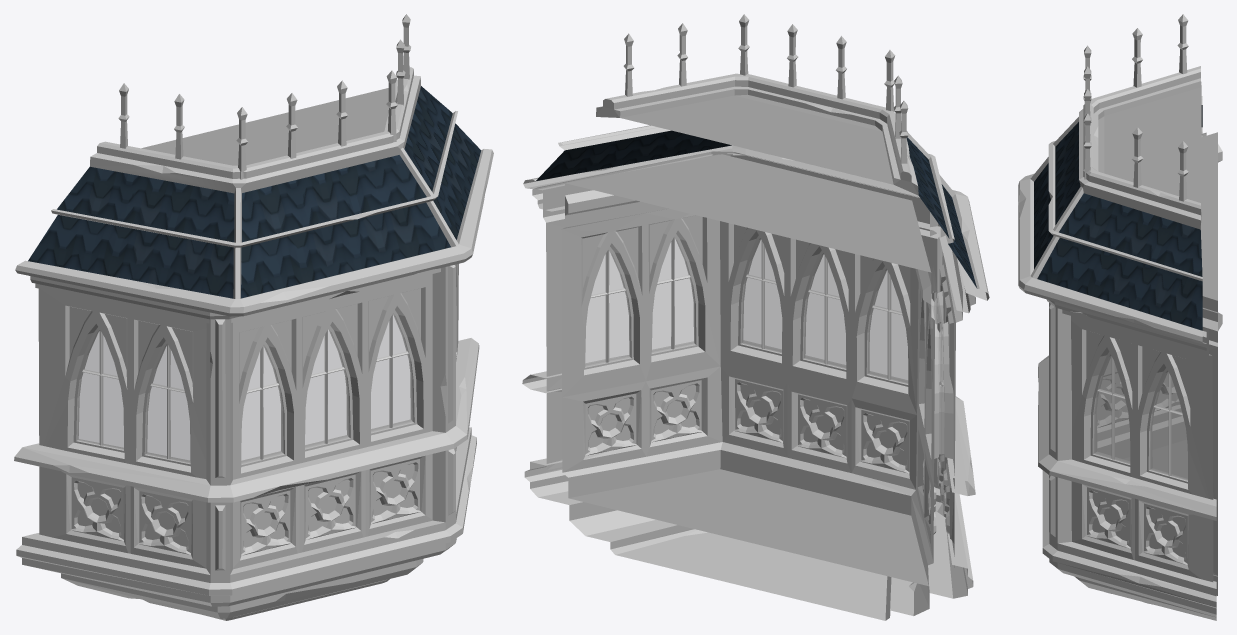
File: SM_Bld_Alcove_01.fbx
The picture shows the model from 3 angles, left to right: view 1: azimuth 30°, elevation 25°; view 2: azimuth 150°, elevation 25°; view 3: azimuth 270°, elevation 25°; orthographic projection. The views are drawn at different scales.
Visible parts, largest first — view 1: SM_Bld_Alcove_01; view 2: SM_Bld_Alcove_01; view 3: SM_Bld_Alcove_01.
Boxes of the visible parts, <box> form: SM_Bld_Alcove_01: <box>14,14,493,620</box>; SM_Bld_Alcove_01: <box>522,14,989,620</box>; SM_Bld_Alcove_01: <box>1018,14,1222,620</box>.
Size of the model in its own units: 381 by 397 by 153.
